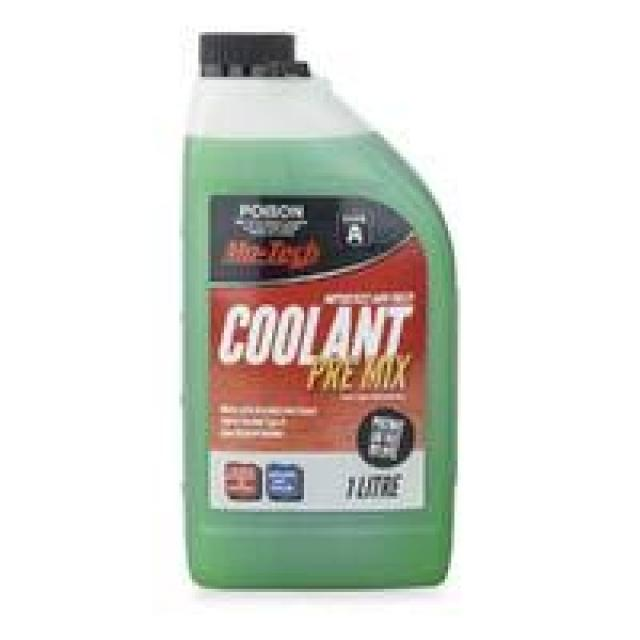coolant: (173, 24, 464, 597)
